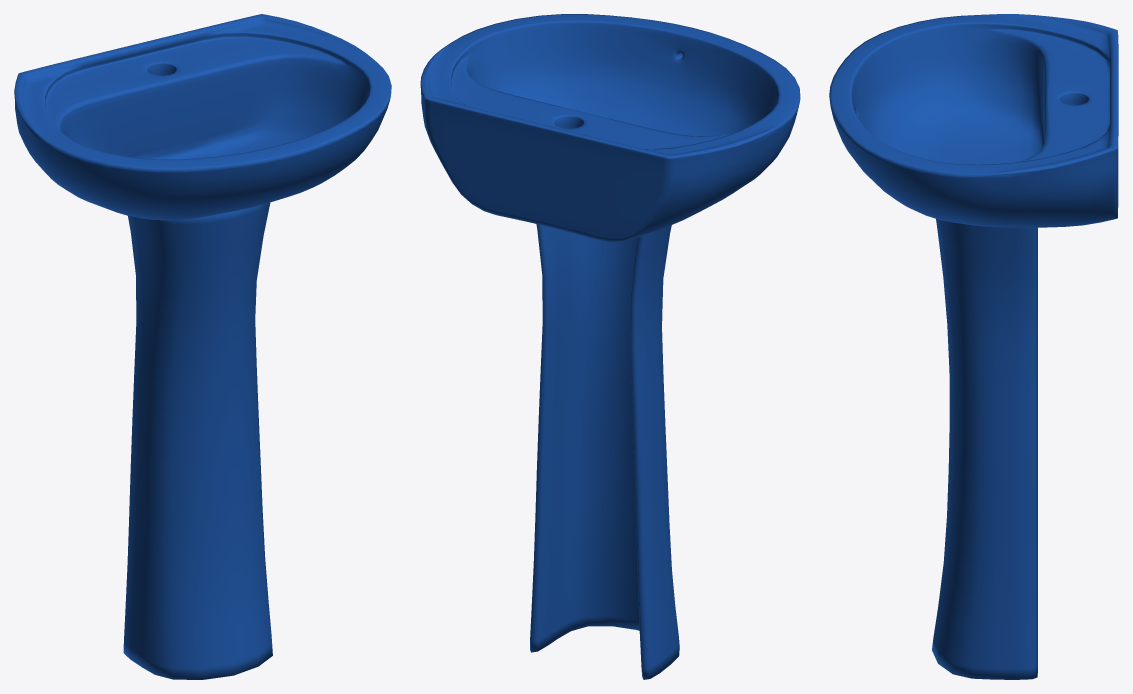
The model's file is sink.obj.
3 views of the same model, side by side, from view 1: azimuth 30°, elevation 25°; view 2: azimuth 150°, elevation 25°; view 3: azimuth 270°, elevation 25° (orthographic).
Parts seen in each view (by area): view 1: Group_001, Group_002; view 2: Group_002, Group_001; view 3: Group_002, Group_001.
Part boxes in pixels (x1,y1,x2,y2): Group_001: [123, 202, 272, 679]; Group_002: [14, 14, 391, 220]; Group_002: [420, 14, 800, 241]; Group_001: [530, 224, 679, 679]; Group_002: [829, 14, 1118, 227]; Group_001: [932, 219, 1037, 679].
Bounding box in the file's own units: 18.31 × 29.92 × 13.98.
